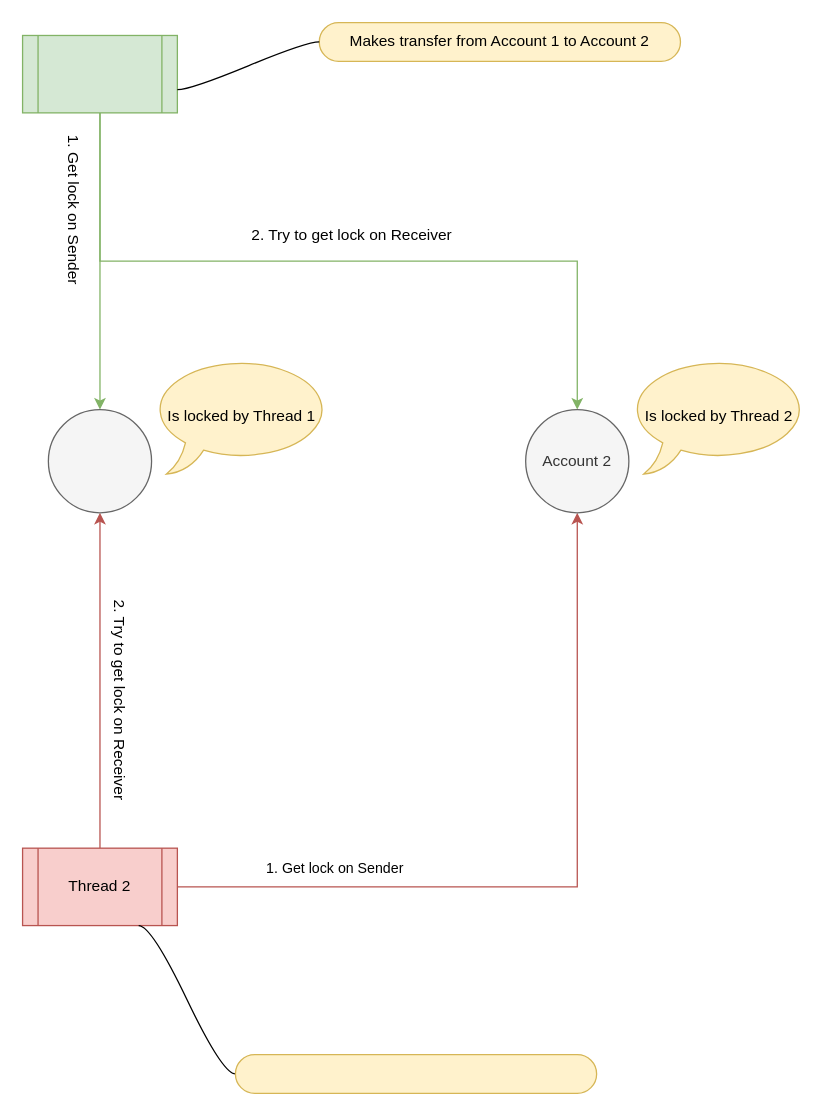
Some shapes in this 832 by 1116 pixel diagram are drawn without their labels. Here are the shapes that lost their labels. From the top down, the box of each, then its label:
(21, 34, 177, 113): Thread 1
(47, 408, 152, 513): Account 1
(234, 1053, 597, 1093): Makes transfer from Account 2 to Account 1
